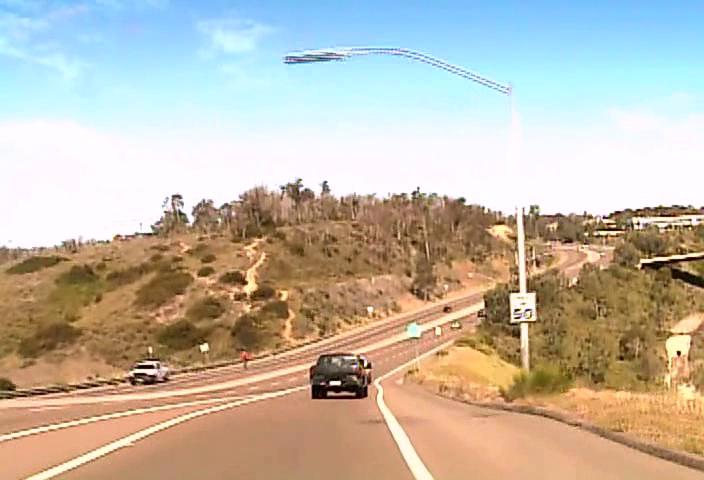speedLimit50: (509, 291, 537, 323)
